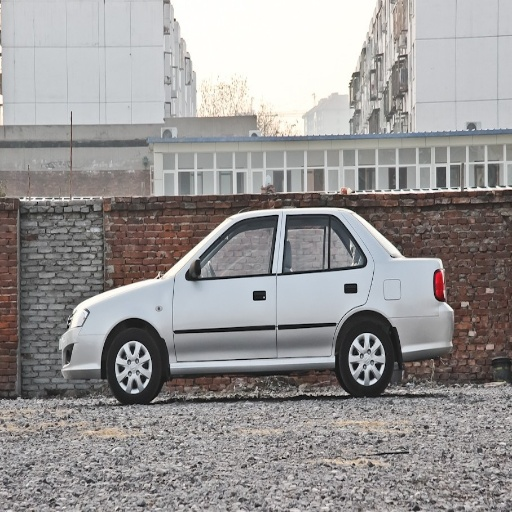back_bumper: (399, 308, 453, 362)
back_left_door: (276, 212, 373, 356)
front_left_door: (177, 214, 283, 360)
